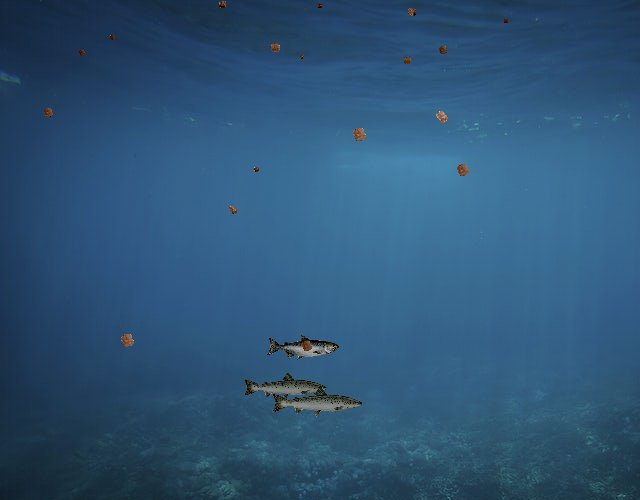Fish: (271, 385, 365, 419), (242, 371, 328, 402), (267, 334, 340, 360)
Pellet: (113, 326, 141, 354), (428, 104, 455, 131), (450, 157, 476, 183), (296, 335, 318, 357), (224, 201, 242, 219), (250, 164, 262, 176)
